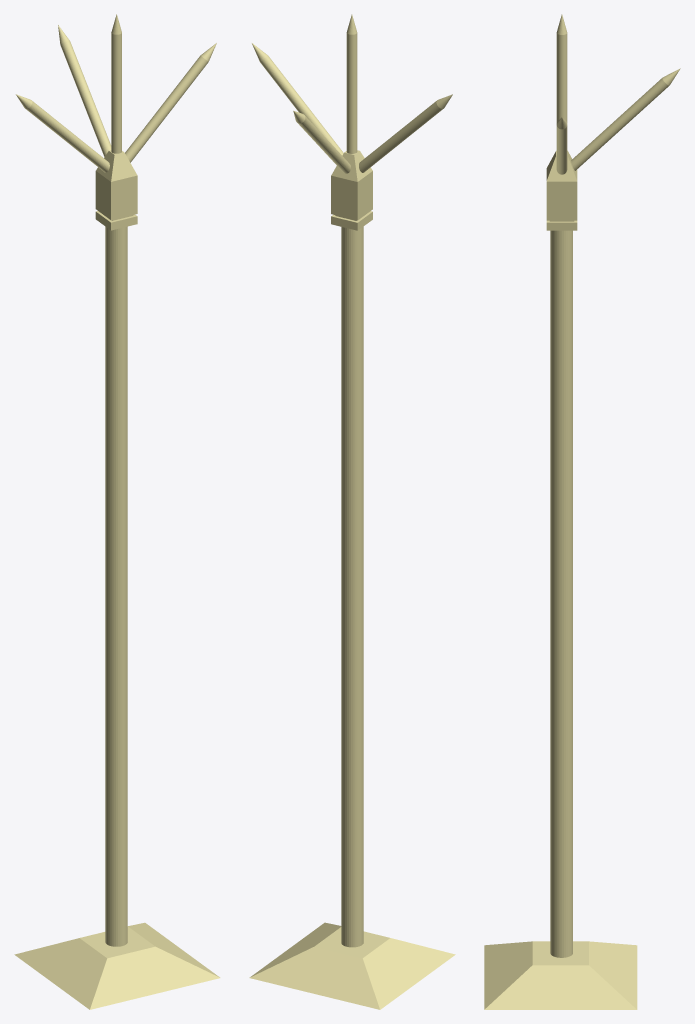
The model's file is Para_raio.fbx.
3 renders of one model, left to right at view 1: azimuth 30°, elevation 25°; view 2: azimuth 150°, elevation 25°; view 3: azimuth 270°, elevation 25°, orthographic.
Visible parts, largest first — view 1: Cylinder, Cube.005, Cube, Cube.002, Cube.001, Cube.004, Cube.003; view 2: Cylinder, Cube.005, Cube, Cube.001, Cube.003, Cube.002, Cube.004; view 3: Cylinder, Cube.005, Cube, Cube.004, Cube.001, Cube.002.
Boxes of the visible parts, x1,y1,x2,y2 form: Cylinder: (105, 226, 127, 946); Cube.005: (14, 922, 220, 1009); Cube: (95, 150, 137, 230); Cube.002: (125, 43, 216, 162); Cube.001: (111, 14, 121, 153); Cube.004: (58, 25, 111, 156); Cube.003: (16, 94, 109, 172); Cylinder: (341, 226, 363, 947); Cube.005: (249, 922, 455, 1009); Cube: (331, 150, 372, 230); Cube.001: (346, 14, 357, 153); Cube.003: (359, 94, 452, 172); Cube.002: (252, 43, 343, 155); Cube.004: (293, 110, 350, 173); Cylinder: (550, 230, 572, 957); Cube.005: (484, 941, 637, 1009); Cube: (546, 150, 577, 230); Cube.004: (571, 68, 680, 170); Cube.001: (556, 14, 567, 122); Cube.002: (556, 117, 567, 174).
Size of the model in its own units: 113 by 512 by 94.66.
